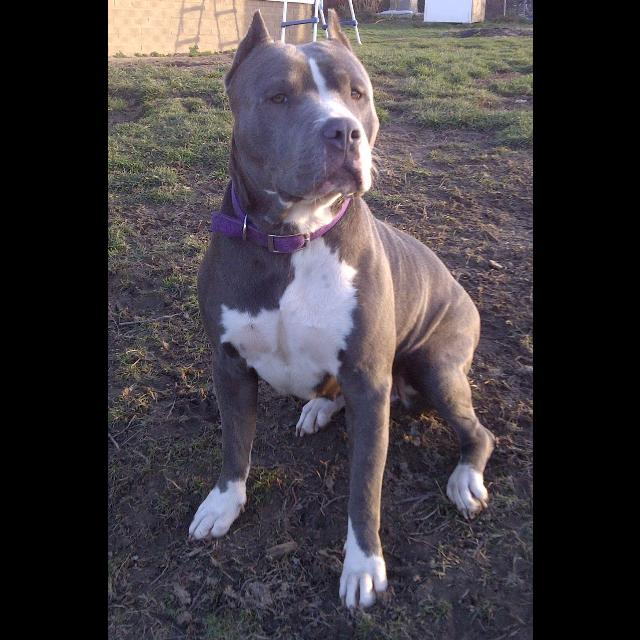other_dog_breed: (188, 8, 497, 616)
